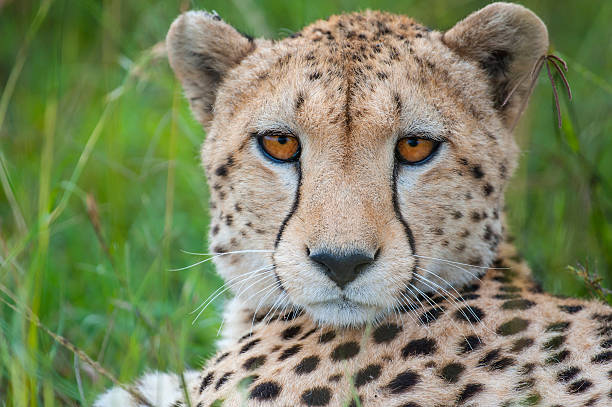cheetah: (156, 4, 576, 345)
